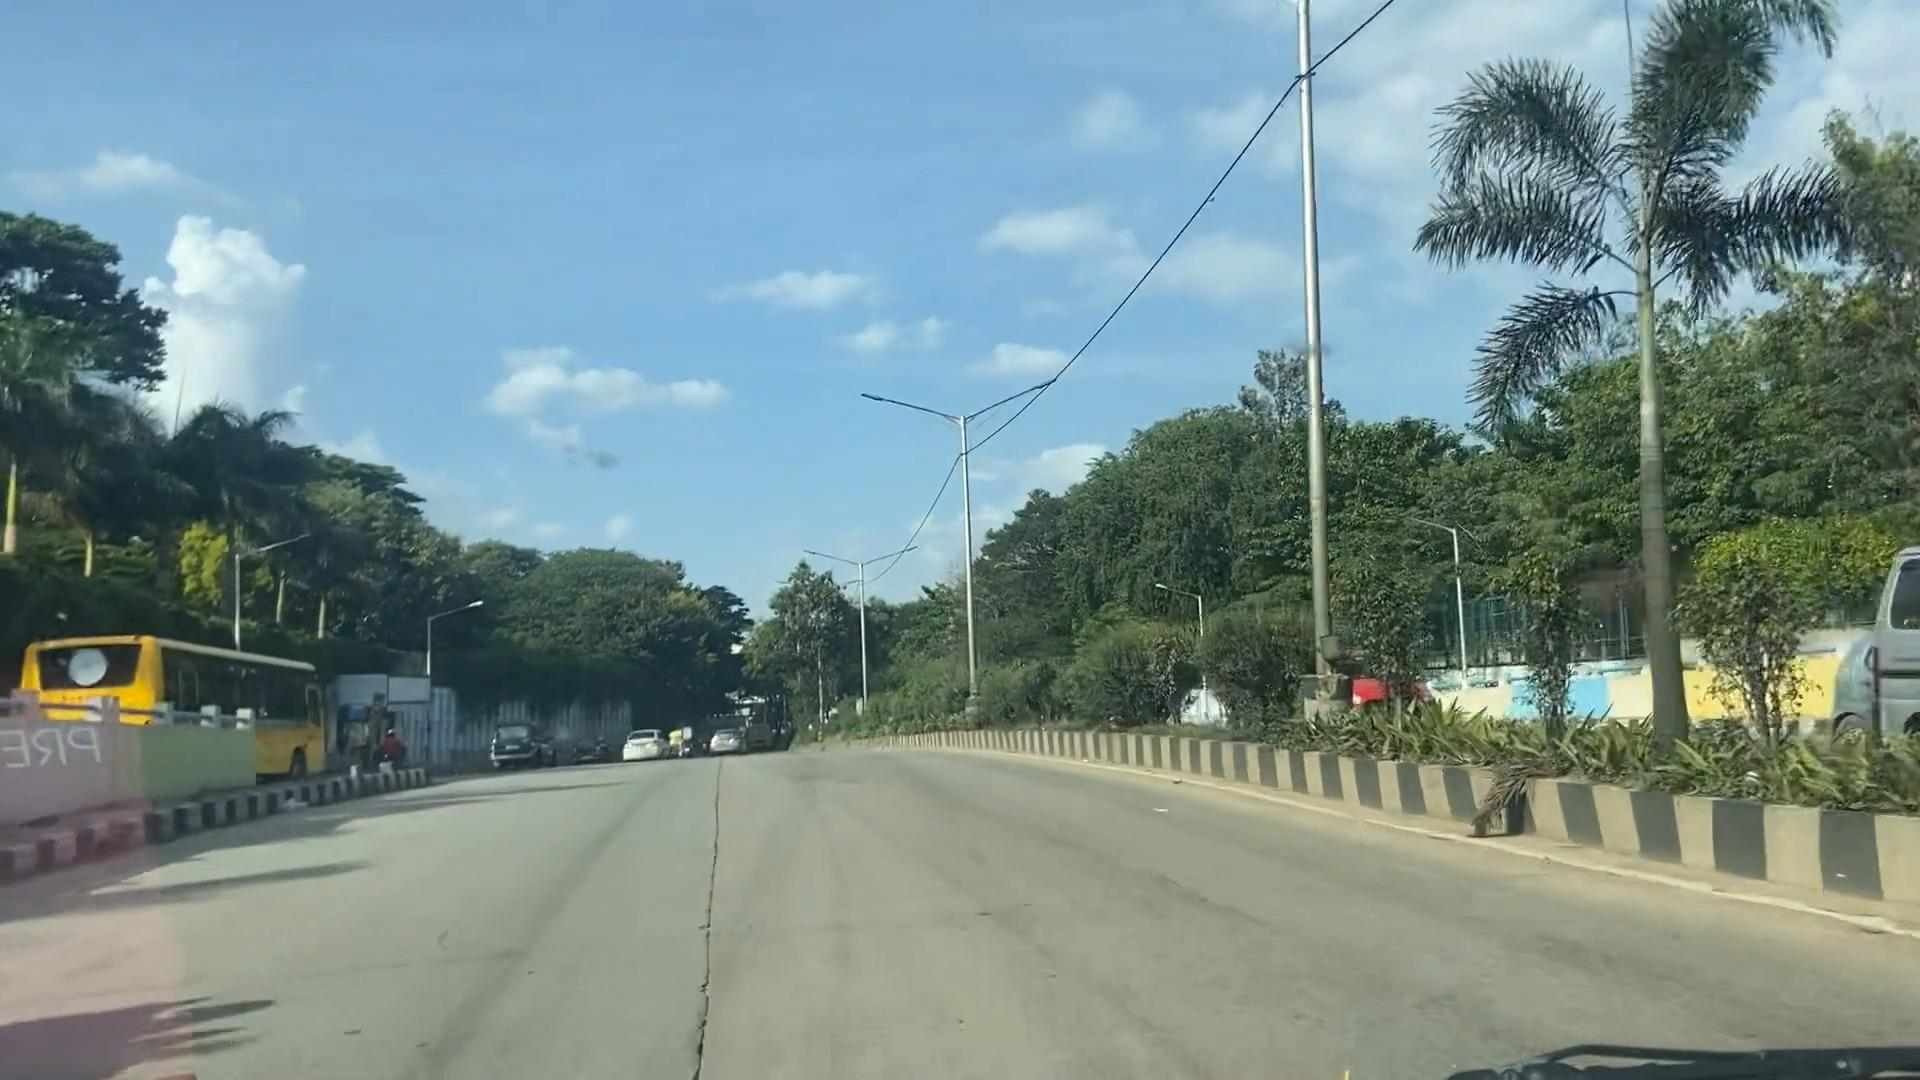RoadDamages: (688, 750, 733, 1080)
